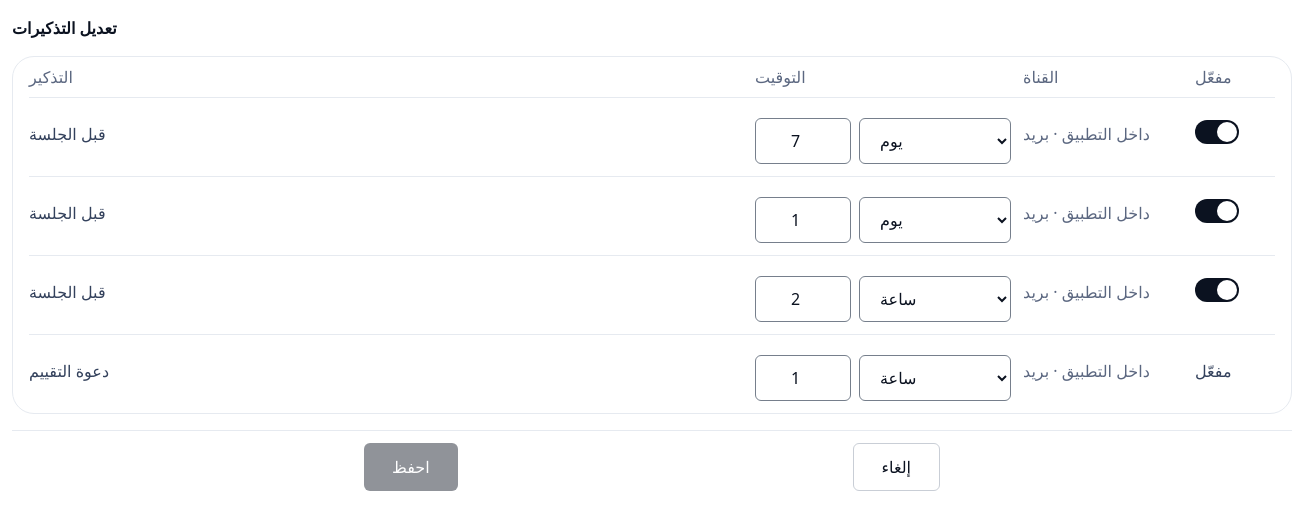
Test case: RemindersEdit › a switch STAGES the change — nothing is written — and edit mode counts it and names it to a screen reader
The image size is (1292, 508).
Click the switch named "مفعّل — التذكير قبل الجلسة بساعتين" at (1217, 290), box [1195,268,1239,312]
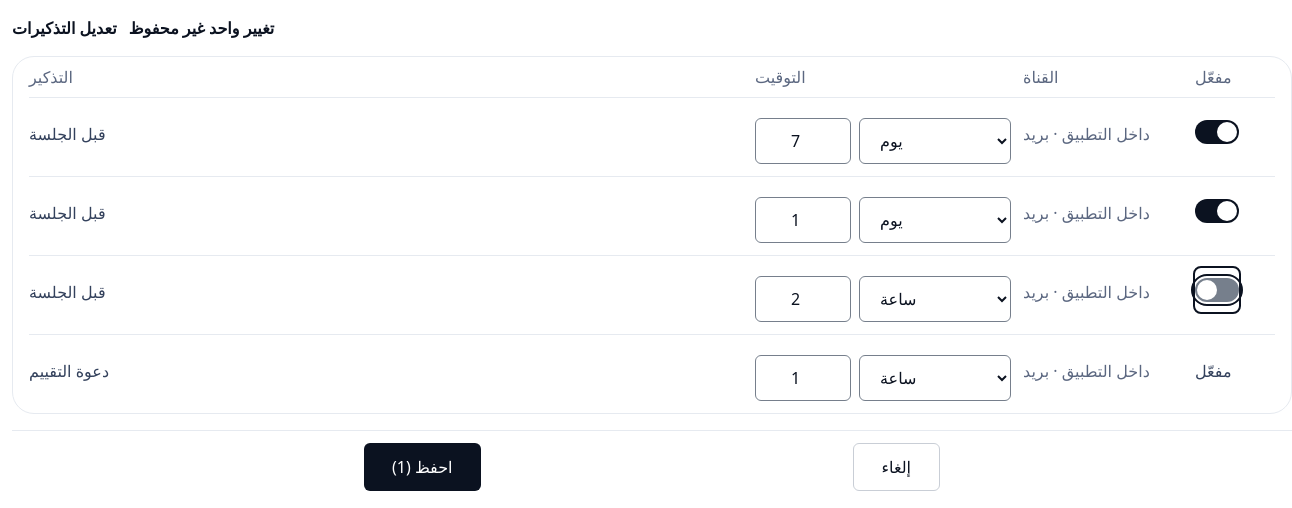
Expected: the switch named "مفعّل (معدّل) — التذكير قبل الجلسة بساعتين" is not checked, [1195,268,1239,312]
Expected: the text "تغيير واحد غير محفوظ" is shown, [129,16,274,40]
Expected: the button "احفظ (1)" is enabled, [364,443,480,491]
